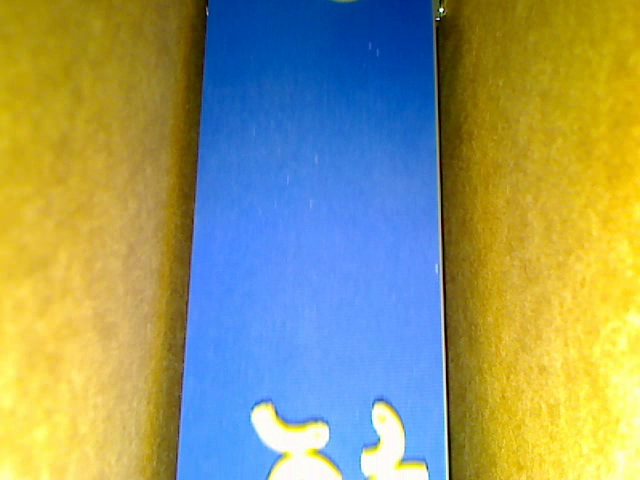elbow: (250, 398, 330, 454), (361, 399, 406, 475), (265, 449, 341, 479), (367, 459, 430, 479)
